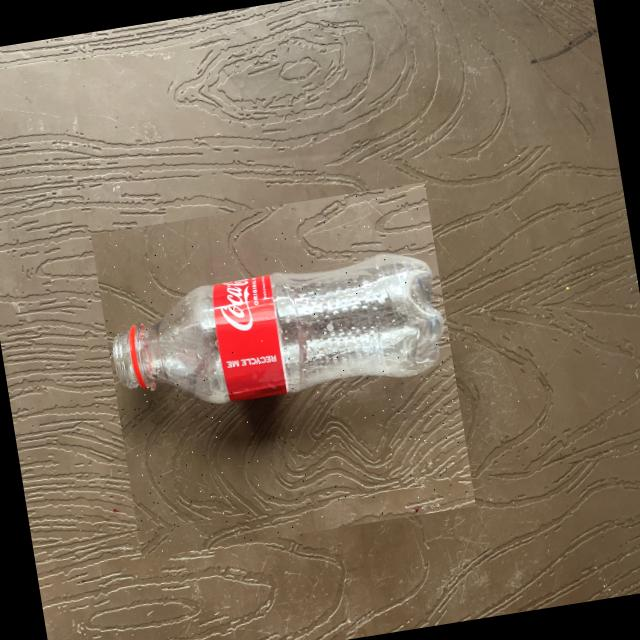REJECT: (90, 182, 475, 559)
